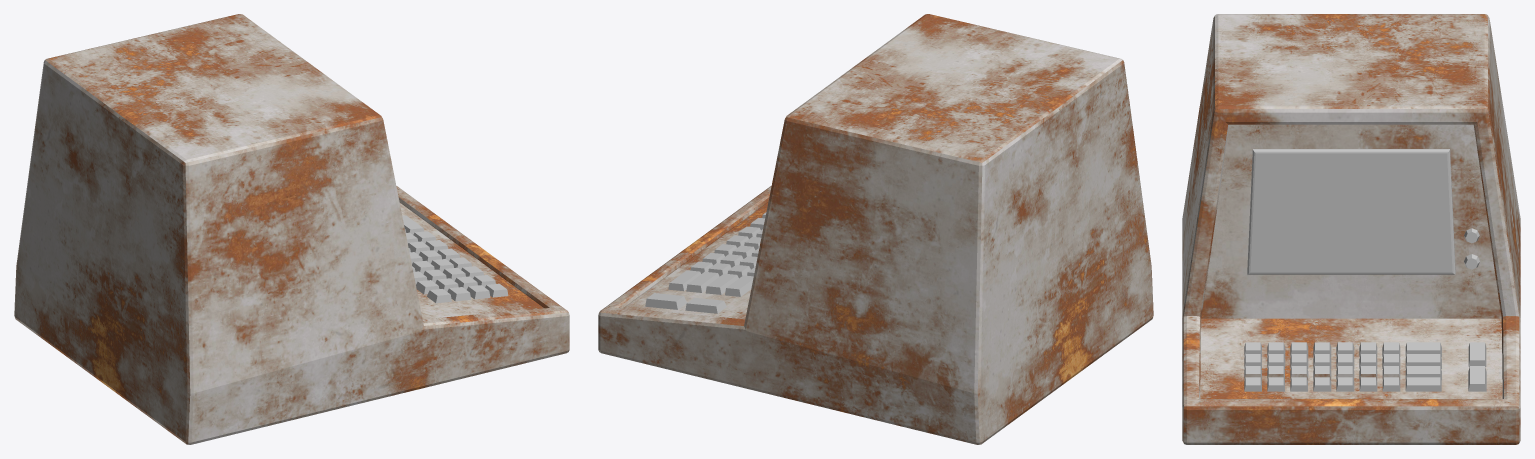
File: Computer.fbx
3 views of the same model, side by side, from view 1: azimuth 30°, elevation 25°; view 2: azimuth 150°, elevation 25°; view 3: azimuth 270°, elevation 25° (orthographic). The views are drawn at different scales.
Visible parts, largest first — view 1: Computer; view 2: Computer; view 3: Computer.
Boxes of the visible parts, <box> form: Computer: <box>14,14,569,444</box>; Computer: <box>598,14,1153,444</box>; Computer: <box>1182,14,1520,444</box>.
Size of the model in its own units: 2.78 by 1.87 by 2.2.
